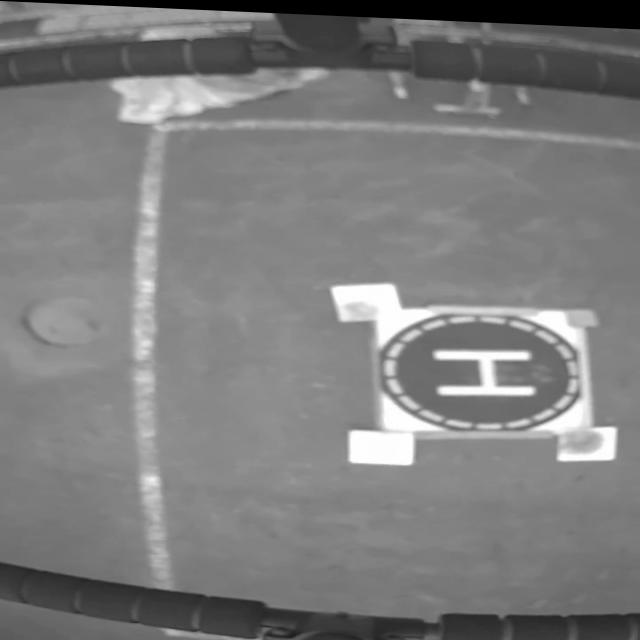Helipad: (431, 343, 538, 391)
